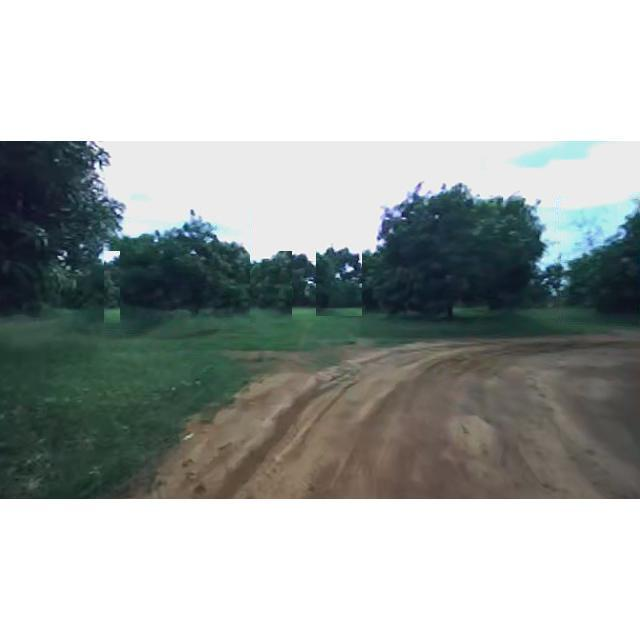direk: (360, 172, 548, 334), (0, 145, 121, 329), (104, 208, 250, 330), (557, 198, 639, 324), (234, 251, 292, 323), (316, 232, 362, 316), (540, 256, 570, 306)
